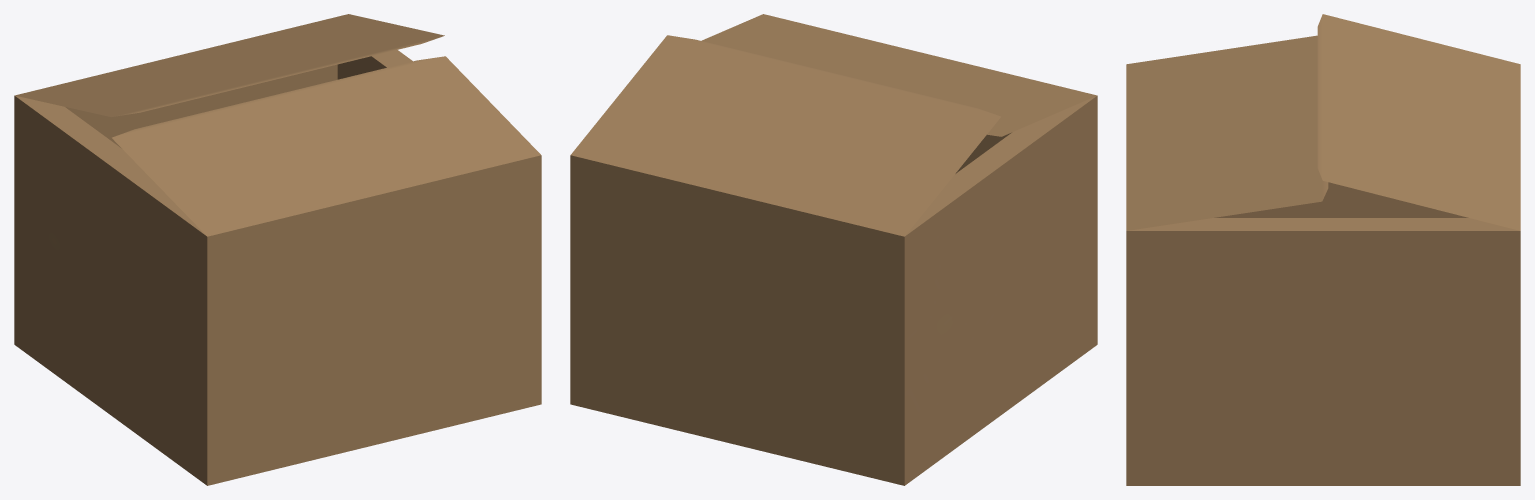
File: Eden_Box_1.fbx
3 renders of one model, left to right at view 1: azimuth 30°, elevation 25°; view 2: azimuth 150°, elevation 25°; view 3: azimuth 270°, elevation 25°, orthographic. The views are drawn at different scales.
Visible parts, largest first — view 1: pCube36; view 2: pCube36; view 3: pCube36.
Boxes of the visible parts, x1,y1,x2,y2 form: pCube36: (14,14,541,485); pCube36: (570,14,1097,485); pCube36: (1126,14,1520,485).
Bounding box in the file's own units: 0.0178 × 0.0152 × 0.0178.
1 material, 1 textured.
